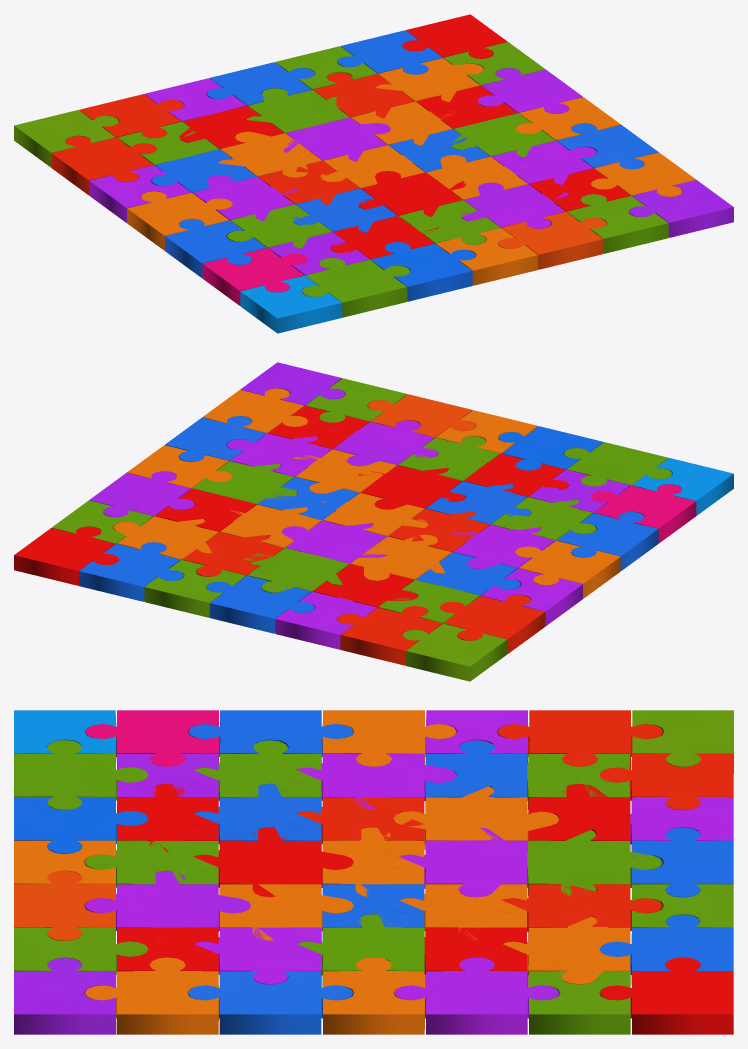
Rendered from ColourMappedPuzzle.fbx.
The picture shows the model from 3 angles, top to bottom: view 1: azimuth 30°, elevation 25°; view 2: azimuth 150°, elevation 25°; view 3: azimuth 270°, elevation 25°; orthographic projection. The views are drawn at different scales.
Visible parts, largest first — view 1: PuzzlePiece.045, PuzzlePiece.041, PuzzlePiece.044, PuzzlePiece.046, PuzzlePiece.042, PuzzlePiece.034, PuzzlePiece.048, PuzzlePiece.037, PuzzlePiece.039, PuzzlePiece.036, PuzzlePiece.022, PuzzlePiece.027 (+37 smaller); view 2: PuzzlePiece.040, PuzzlePiece.043, PuzzlePiece.035, PuzzlePiece.031, PuzzlePiece.041, PuzzlePiece.033, PuzzlePiece.037, PuzzlePiece.039, PuzzlePiece.036, PuzzlePiece.022, PuzzlePiece.027, PuzzlePiece.045 (+37 smaller); view 3: PuzzlePiece.027, PuzzlePiece.043, PuzzlePiece.028, PuzzlePiece.029, PuzzlePiece.034, PuzzlePiece.026, PuzzlePiece.041, PuzzlePiece.022, PuzzlePiece.045, PuzzlePiece.012, PuzzlePiece.007, PuzzlePiece.001 (+37 smaller).
Boxes of the visible parts, box(x1,y1,x2,y2) form: PuzzlePiece.045: box(302, 258, 410, 317); PuzzlePiece.041: box(51, 136, 156, 195); PuzzlePiece.044: box(370, 242, 475, 301); PuzzlePiece.046: box(498, 212, 606, 269); PuzzlePiece.042: box(240, 275, 342, 333); PuzzlePiece.034: box(629, 180, 733, 237); PuzzlePiece.048: box(567, 194, 668, 253); PuzzlePiece.037: box(202, 248, 308, 305); PuzzlePiece.039: box(127, 191, 232, 250); PuzzlePiece.036: box(165, 219, 266, 278); PuzzlePiece.022: box(461, 182, 568, 228); PuzzlePiece.027: box(477, 68, 582, 113); PuzzlePiece.040: box(402, 623, 507, 681); PuzzlePiece.043: box(14, 526, 119, 585); PuzzlePiece.035: box(337, 606, 442, 665); PuzzlePiece.031: box(79, 542, 183, 601); PuzzlePiece.041: box(439, 594, 545, 653); PuzzlePiece.033: box(206, 575, 314, 633); PuzzlePiece.037: box(590, 484, 696, 543); PuzzlePiece.039: box(515, 540, 620, 598); PuzzlePiece.036: box(556, 512, 658, 570); PuzzlePiece.022: box(332, 420, 438, 466); PuzzlePiece.027: box(89, 471, 194, 517); PuzzlePiece.045: box(564, 442, 672, 486); PuzzlePiece.027: box(394, 957, 559, 1034); PuzzlePiece.043: box(600, 957, 733, 1034); PuzzlePiece.028: box(85, 957, 218, 1034); PuzzlePiece.029: box(188, 971, 352, 1034); PuzzlePiece.034: box(14, 958, 115, 1034); PuzzlePiece.026: box(323, 957, 424, 1034); PuzzlePiece.041: box(498, 710, 662, 769); PuzzlePiece.022: box(85, 871, 250, 939); PuzzlePiece.045: box(14, 740, 147, 810); PuzzlePiece.012: box(194, 827, 353, 897); PuzzlePiece.007: box(393, 786, 559, 849); PuzzlePiece.001: box(527, 830, 662, 896).
Size of the model in its own units: 9.52 by 0.3037 by 9.53.
